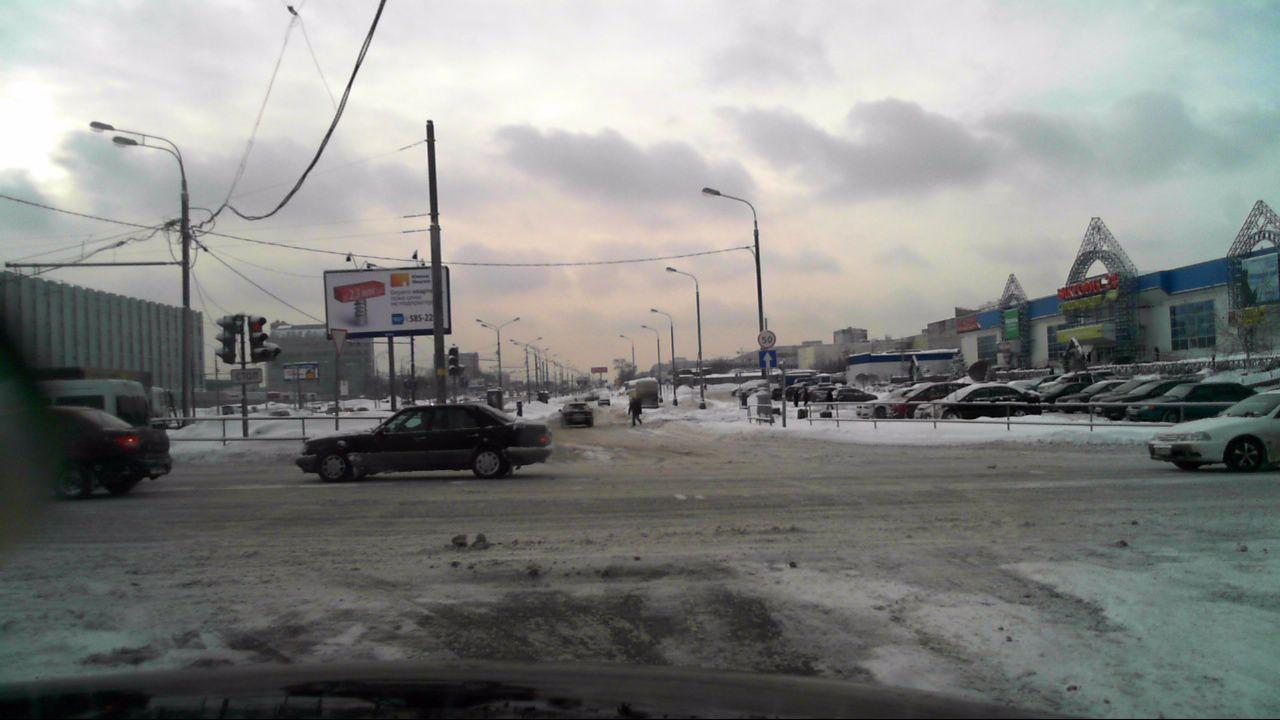off traffic light: (213, 314, 238, 367)
road_sign: (329, 327, 350, 358), (758, 349, 777, 369), (758, 329, 776, 350)
traffic light: (248, 315, 283, 365), (448, 345, 460, 377)
